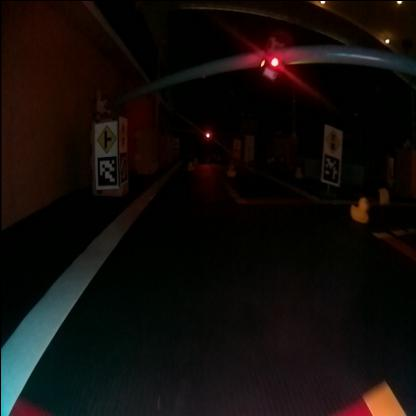Duckie: (350, 196, 370, 221), (226, 164, 236, 174)
Intersection sign: (96, 122, 116, 152)
QR code: (97, 156, 115, 184), (322, 154, 338, 183), (120, 153, 128, 183)
Signal sign: (326, 128, 342, 150)
Traffic light: (260, 49, 282, 79), (204, 130, 210, 139)
